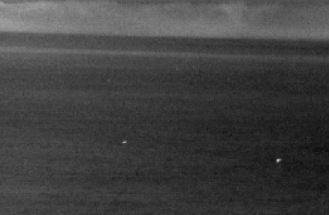Target: (123, 141, 281, 162)
